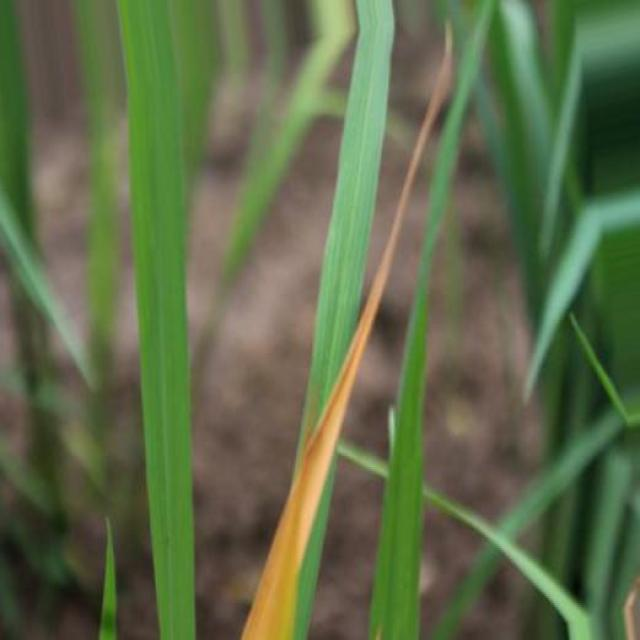Rice Tungro: (241, 24, 450, 639)
